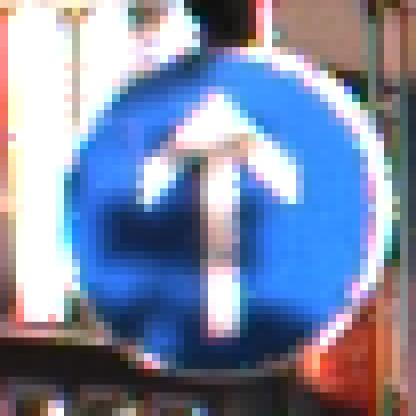AheadOnly: (49, 40, 377, 378)
